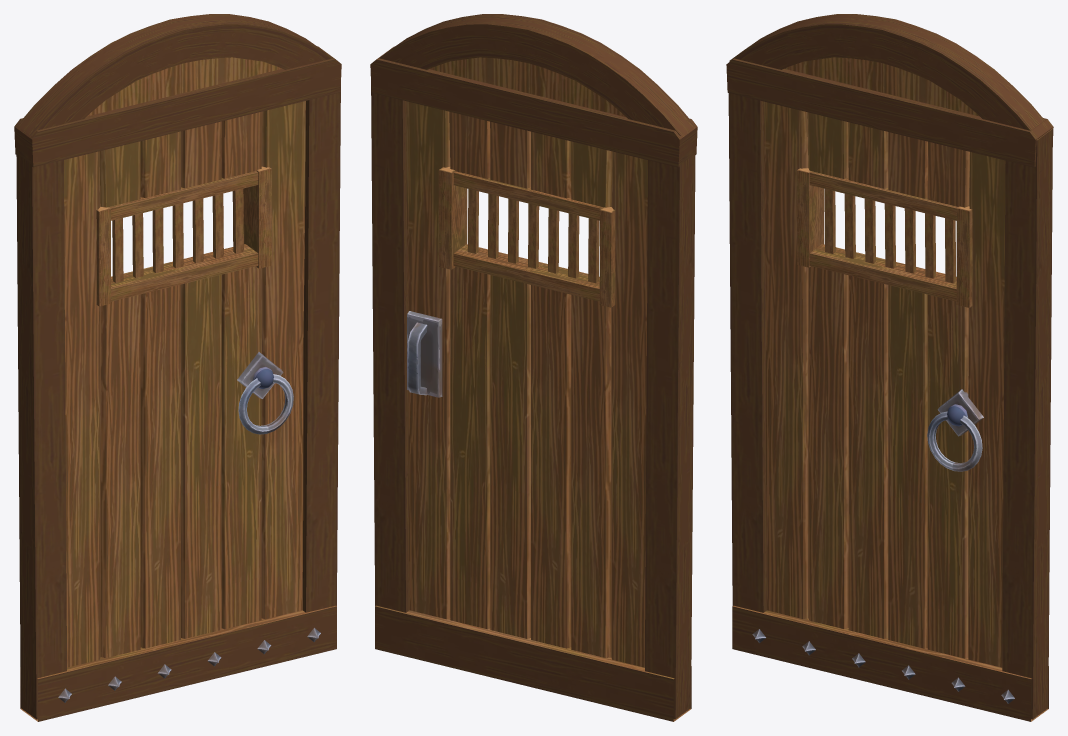
File: Door_8_Round.glb
3 renders of one model, left to right at view 1: azimuth 30°, elevation 25°; view 2: azimuth 150°, elevation 25°; view 3: azimuth 330°, elevation 25°, orthographic.
Parts seen in each view (by area): view 1: Door_8_Round; view 2: Door_8_Round; view 3: Door_8_Round.
Boxes of the visible parts, left/top/right/bottom form: Door_8_Round: left=14, top=14, right=341, bottom=721; Door_8_Round: left=370, top=14, right=697, bottom=721; Door_8_Round: left=726, top=14, right=1053, bottom=721.
Bounding box in the file's own units: 1.15 × 2.32 × 0.1994.
Materials: 2 (2 with a texture image).
